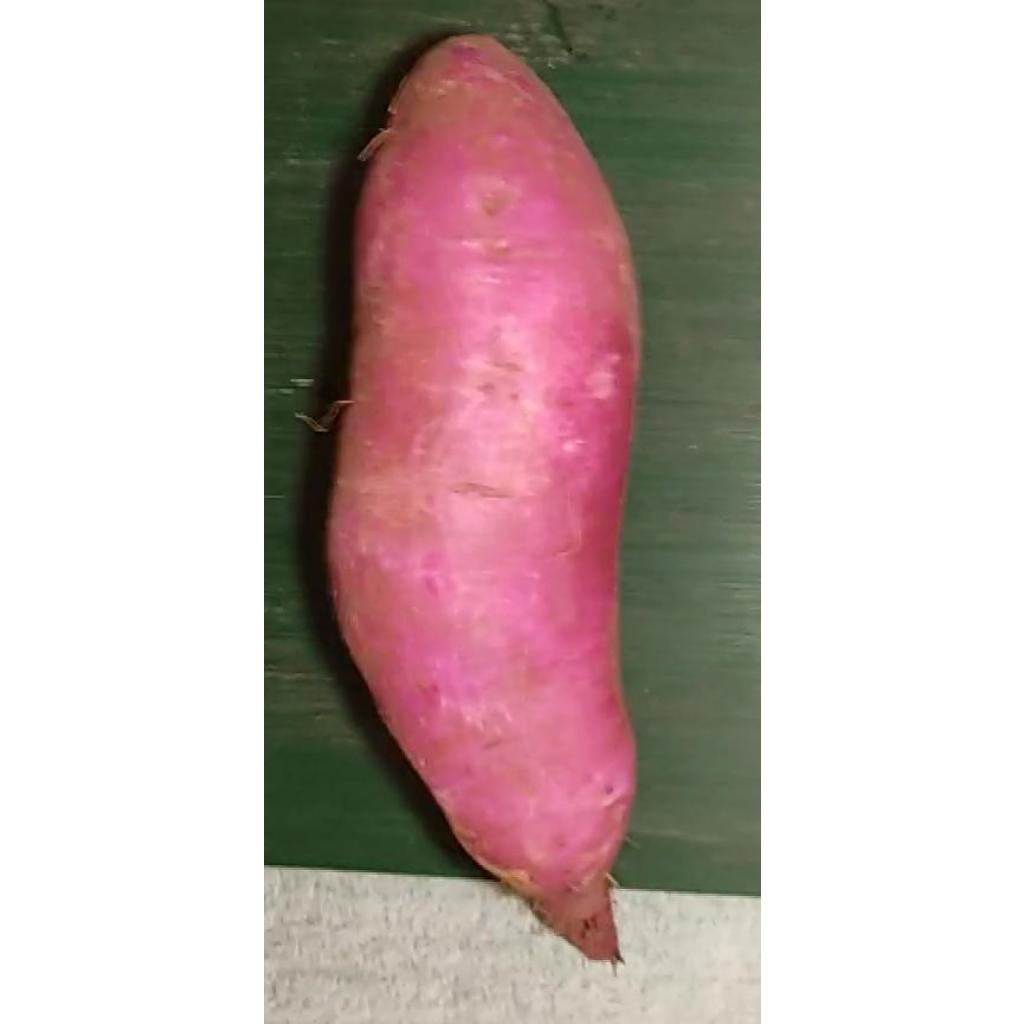Sweet Potato: (329, 33, 642, 964)
